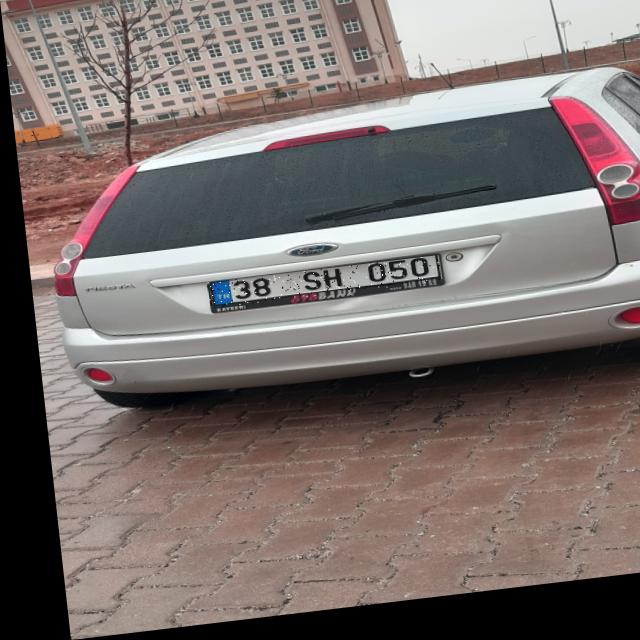license_plate: (201, 266, 434, 313)
